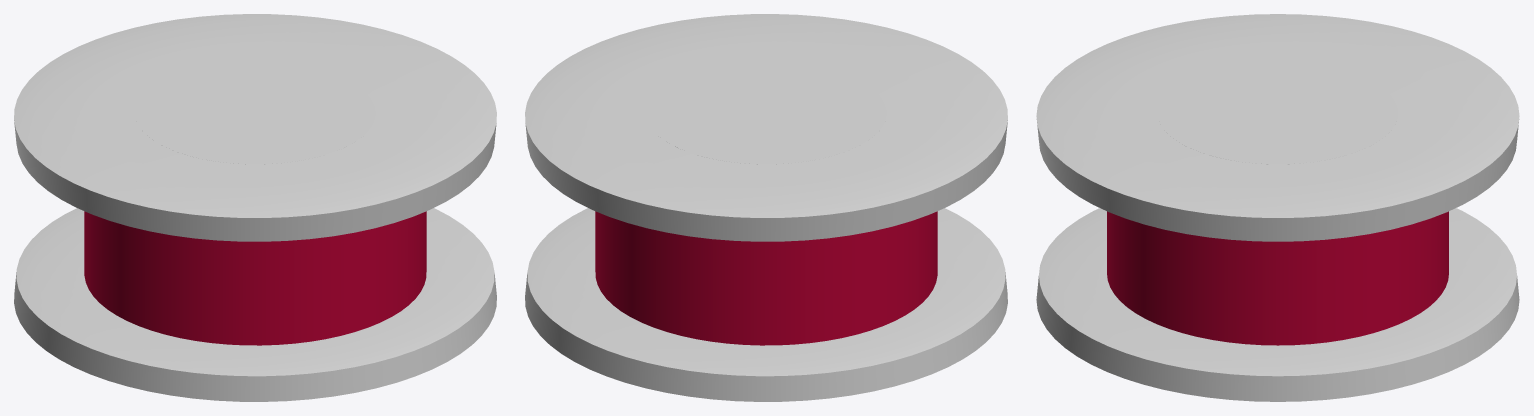
The model's file is filaments.fbx.
3 views of the same model, side by side, from view 1: azimuth 30°, elevation 25°; view 2: azimuth 150°, elevation 25°; view 3: azimuth 270°, elevation 25° (orthographic).
Parts seen in each view (by area): view 1: kırmızı_filament; view 2: kırmızı_filament; view 3: kırmızı_filament.
Part boxes in pixels (x1=…): kırmızı_filament: x1=14, y1=14, x2=496, y2=401; kırmızı_filament: x1=525, y1=14, x2=1007, y2=401; kırmızı_filament: x1=1036, y1=14, x2=1519, y2=401.
Size of the model in its own units: 0.1926 by 0.0831 by 0.1926.
